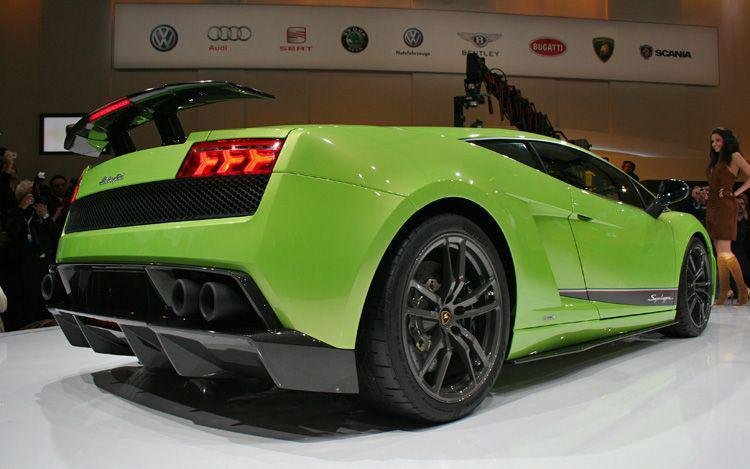Car: (44, 63, 750, 452)
